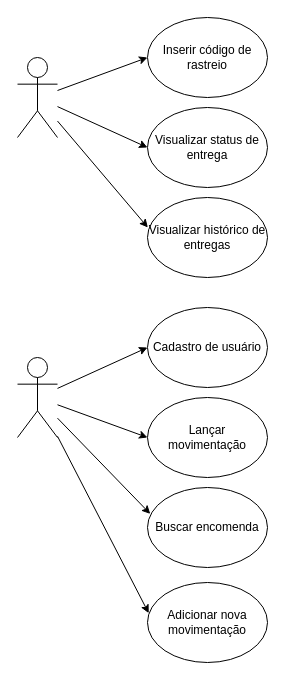
The diagram is 285 pixels wide and 680 high, and some of its shapes have lost their labels. Here are the shapes that lost their labels. From the top down, the centre of each, then its label:
At [37,97]: "Mobile".
At [37,397]: "WEB".
